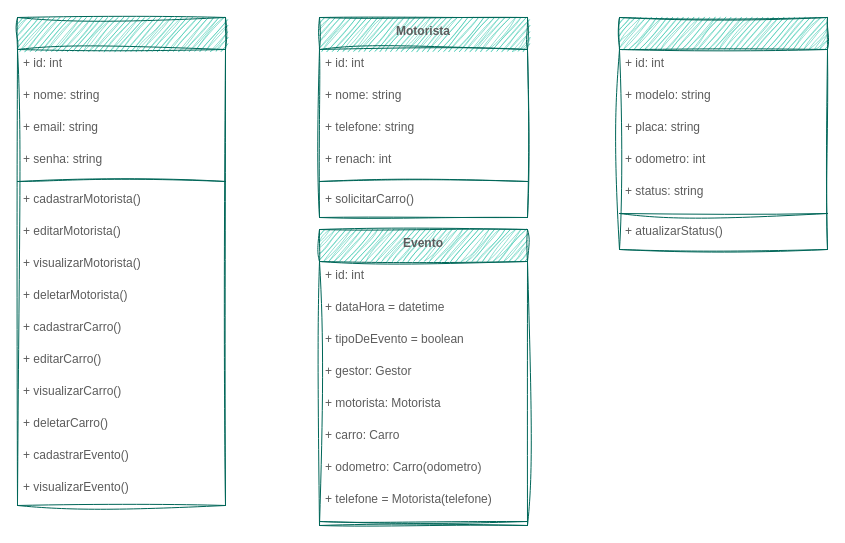
Some shapes in this 845 by 543 pixel diagram are drawn without their labels. Here are the shapes that lost their labels. From the top down, the box of each, then its label:
(618, 16, 828, 250): Carro
(16, 16, 226, 506): Gestor
